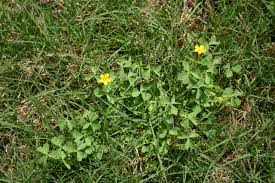clover: (176, 129, 199, 151), (222, 87, 242, 106), (131, 83, 151, 101), (223, 63, 241, 77)
yellow wood sorrel: (96, 71, 112, 86), (194, 43, 206, 55)
